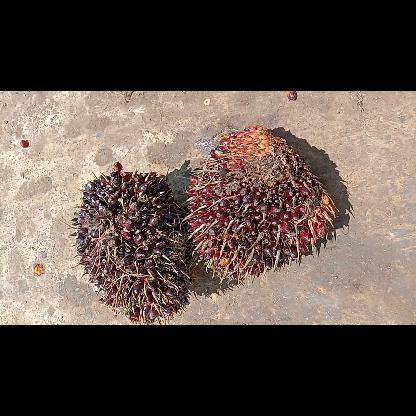TBS mentah: (184, 124, 338, 282), (73, 162, 191, 323)
